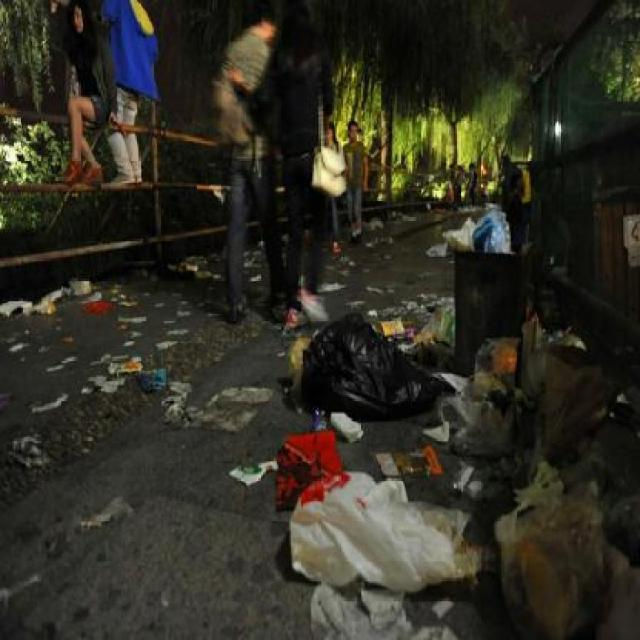garbage: (257, 426, 630, 622), (286, 312, 449, 413), (3, 273, 119, 332), (434, 203, 525, 262), (83, 354, 176, 402)
